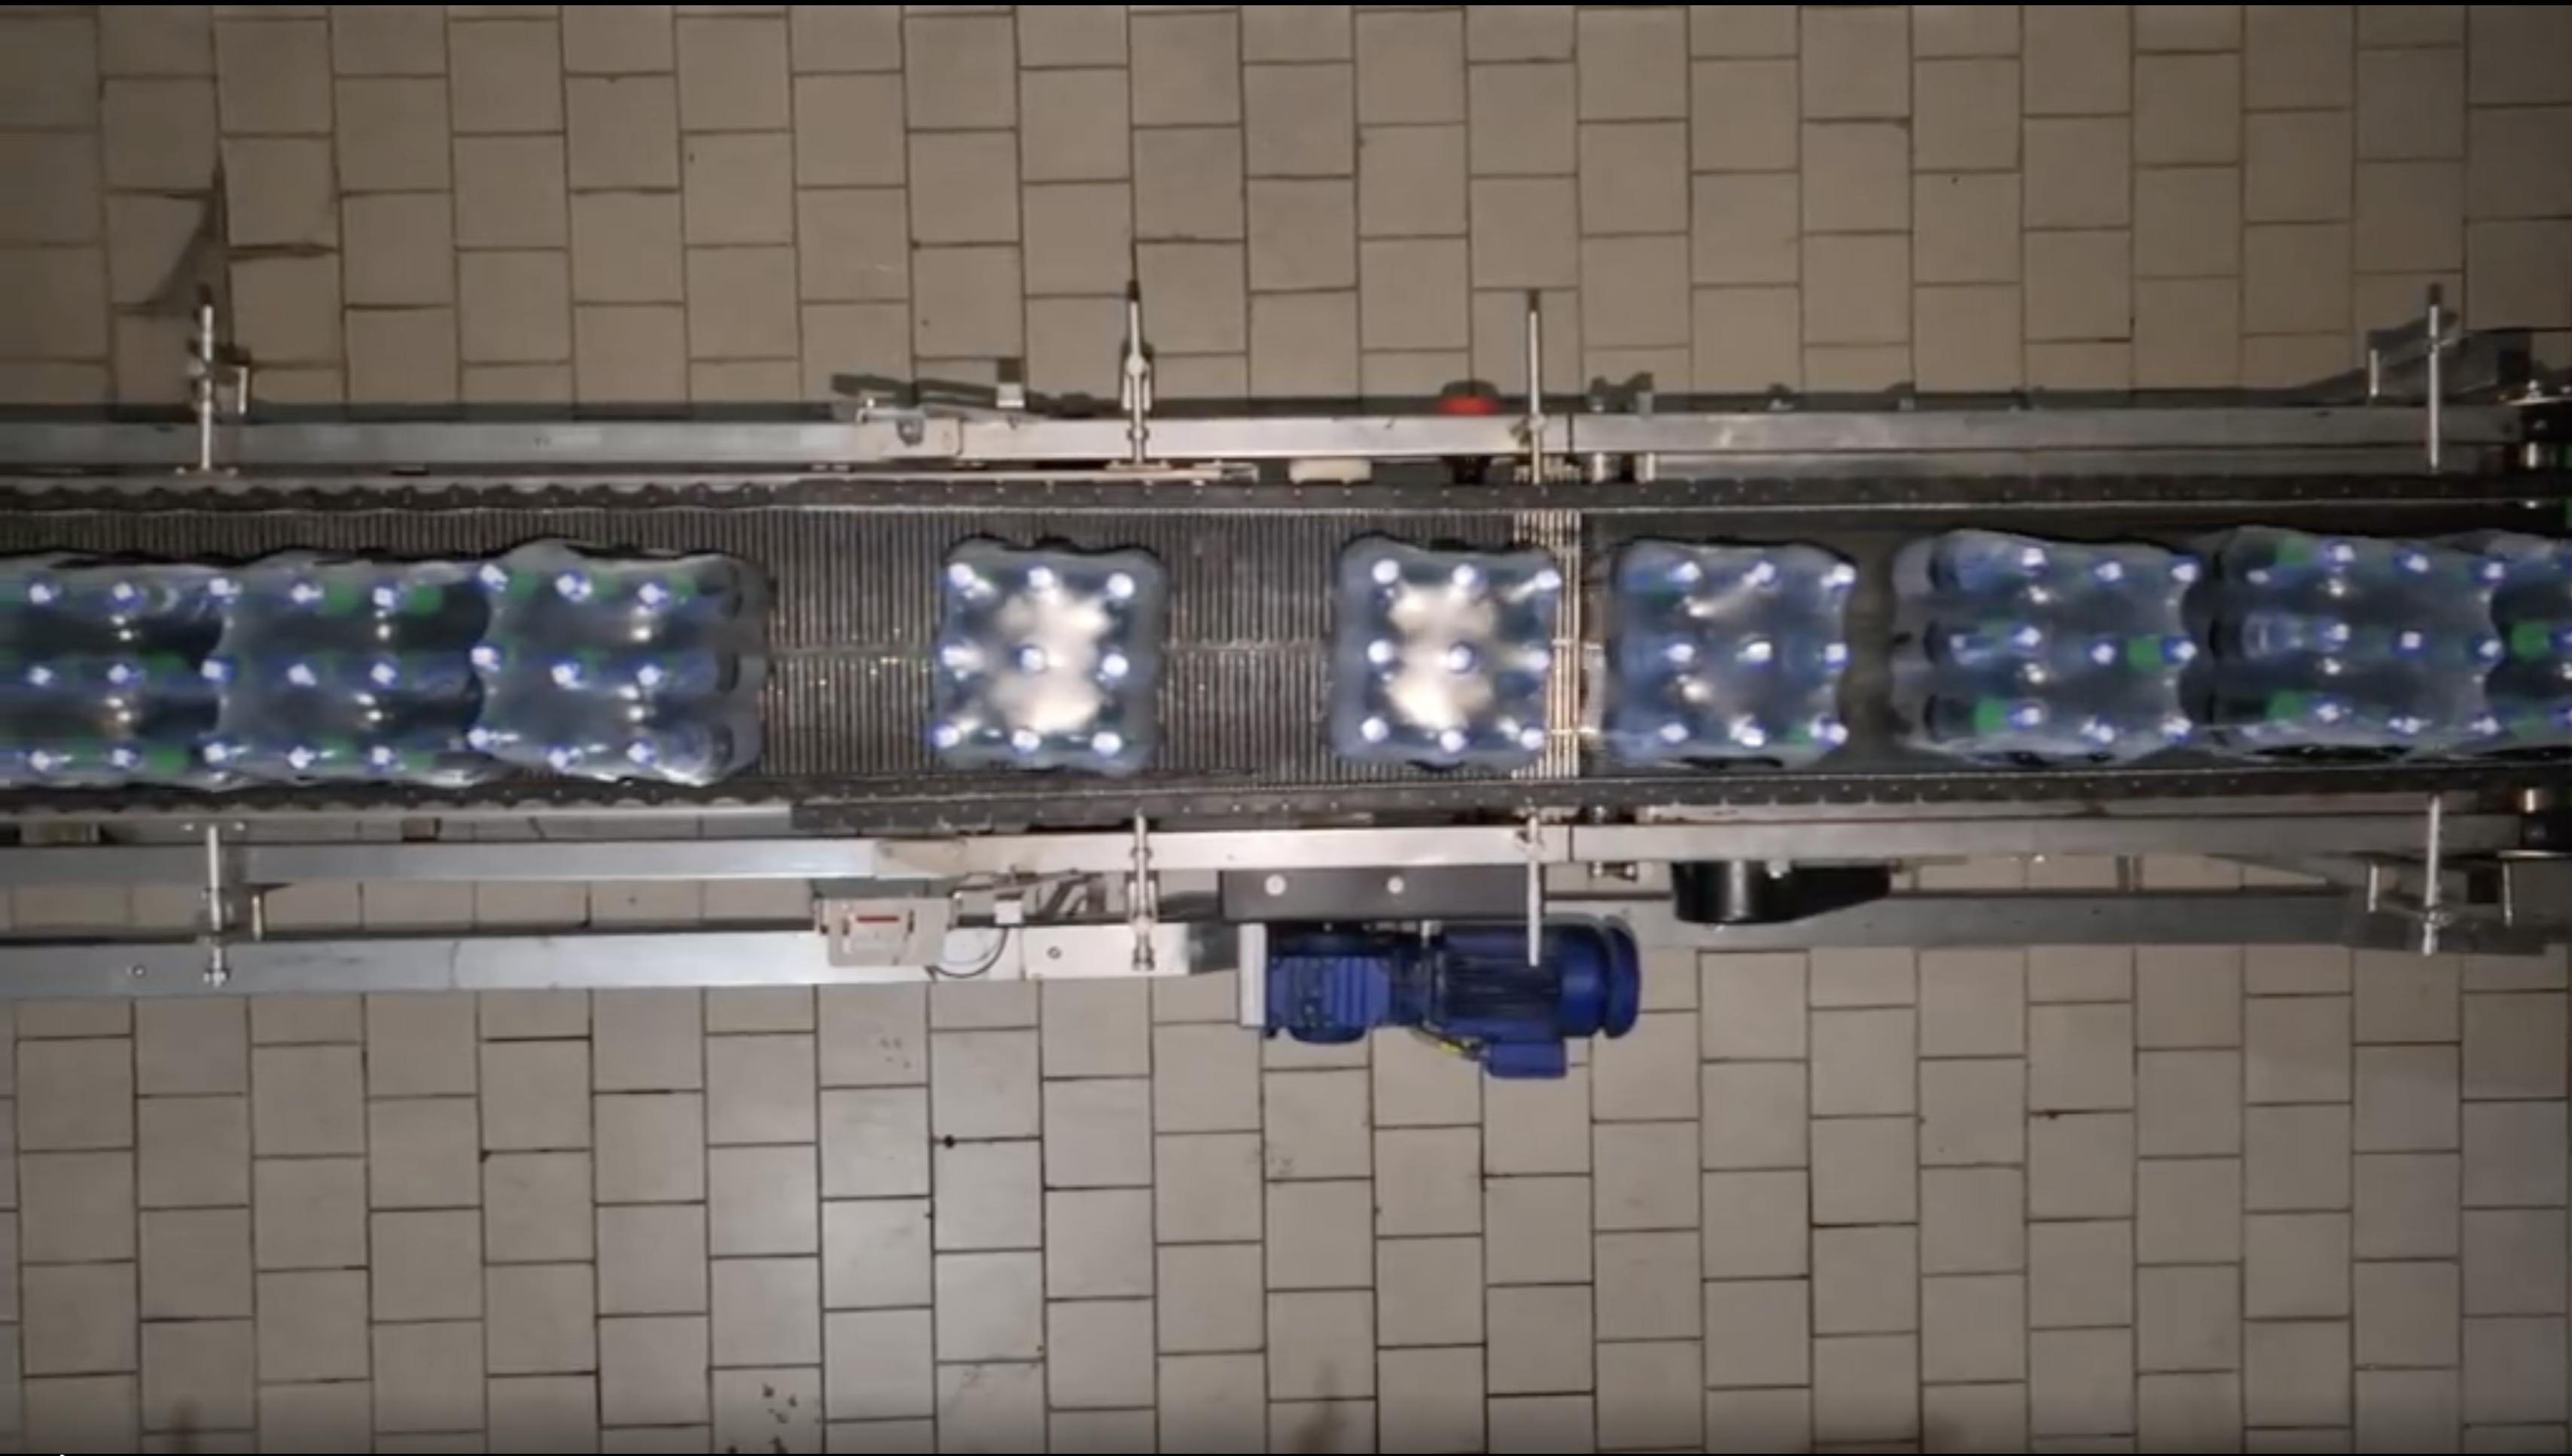pallet: (1943, 525, 2192, 760), (2242, 525, 2500, 749), (207, 569, 466, 788), (477, 553, 722, 783), (938, 544, 1154, 777), (1634, 532, 1850, 760), (0, 562, 203, 788), (1357, 537, 1549, 772)
